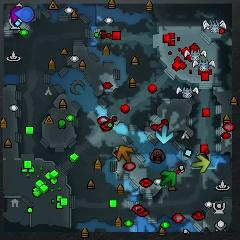p1: (15, 7, 35, 22)
p3: (10, 6, 24, 23)
x2: (191, 154, 210, 173)
x3: (155, 125, 173, 144)
x4: (161, 170, 177, 188)
x5: (117, 145, 134, 162)
